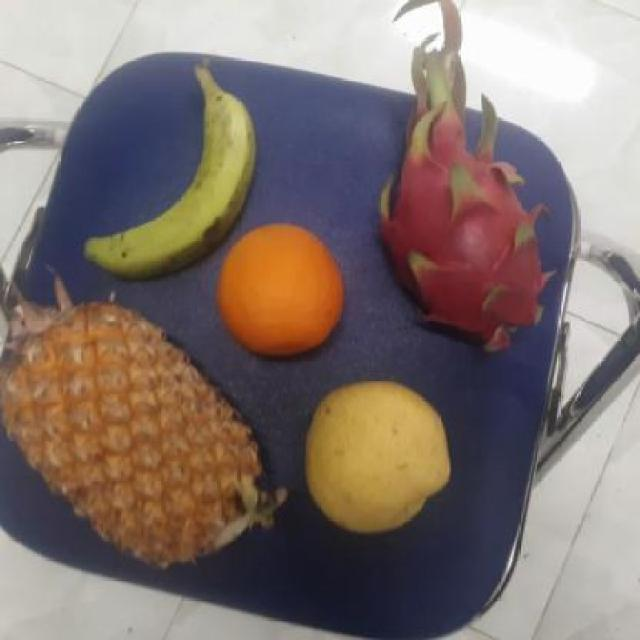banana: (93, 77, 253, 280)
dragon fruit: (370, 112, 570, 352)
guava: (298, 380, 453, 532)
oren: (214, 222, 348, 360)
pineapple: (0, 302, 268, 576)
